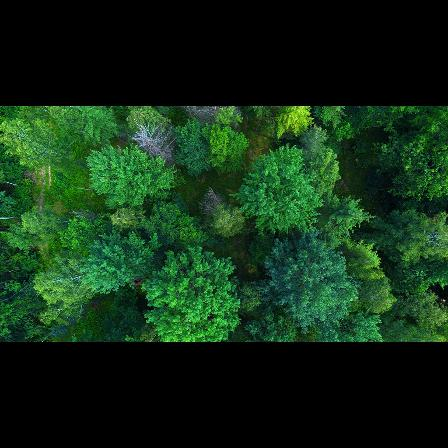Dead: (133, 124, 175, 165), (199, 180, 231, 221), (185, 106, 226, 123)
